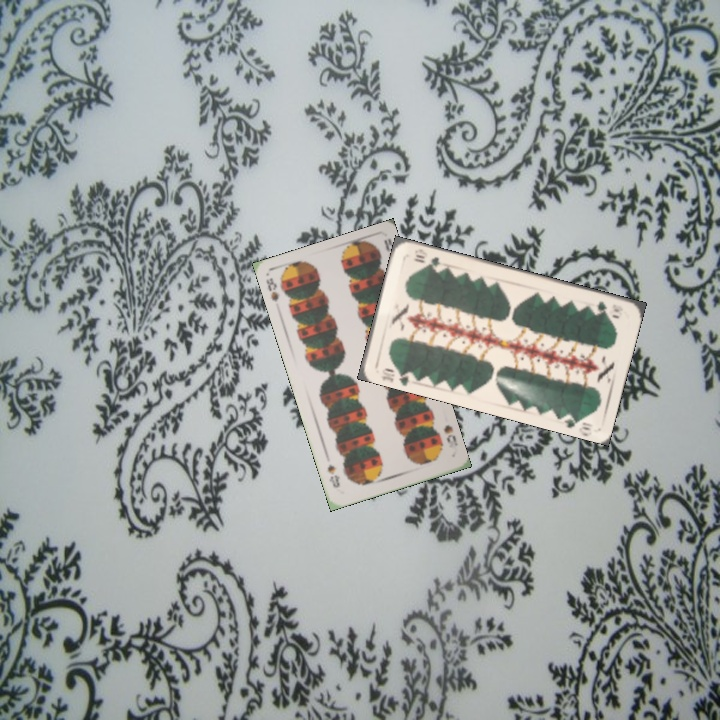G10: (377, 364, 416, 387), (593, 297, 621, 316)
S8: (439, 421, 460, 455), (262, 274, 282, 304)
